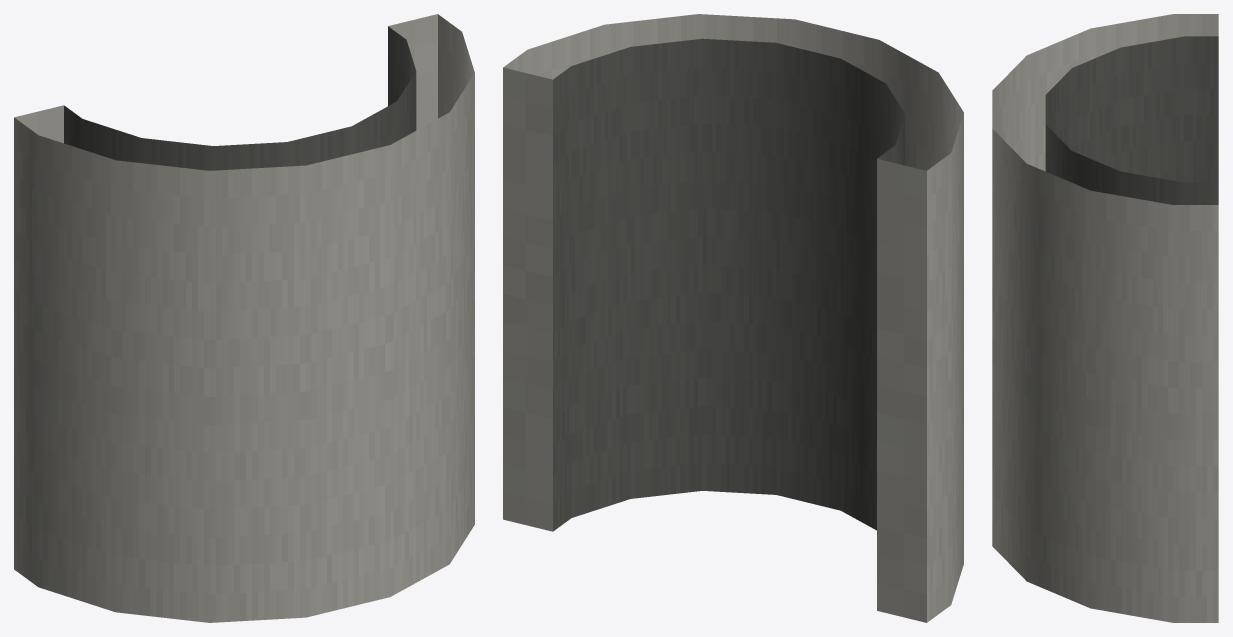
File: mh_ring_cut.obj
The picture shows the model from 3 angles, left to right: view 1: azimuth 30°, elevation 25°; view 2: azimuth 150°, elevation 25°; view 3: azimuth 270°, elevation 25°; orthographic projection. The views are drawn at different scales.
Parts seen in each view (by area): view 1: mh_ring_cut; view 2: mh_ring_cut; view 3: mh_ring_cut.
Boxes of the visible parts, x1=… form: mh_ring_cut: x1=14, y1=14, x2=474, y2=622; mh_ring_cut: x1=503, y1=14, x2=963, y2=622; mh_ring_cut: x1=992, y1=14, x2=1218, y2=622.
Size of the model in its own units: 0.9808 by 1 by 0.4904.
